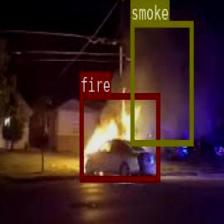fire: (79, 92, 159, 180)
smoke: (130, 21, 193, 145)
